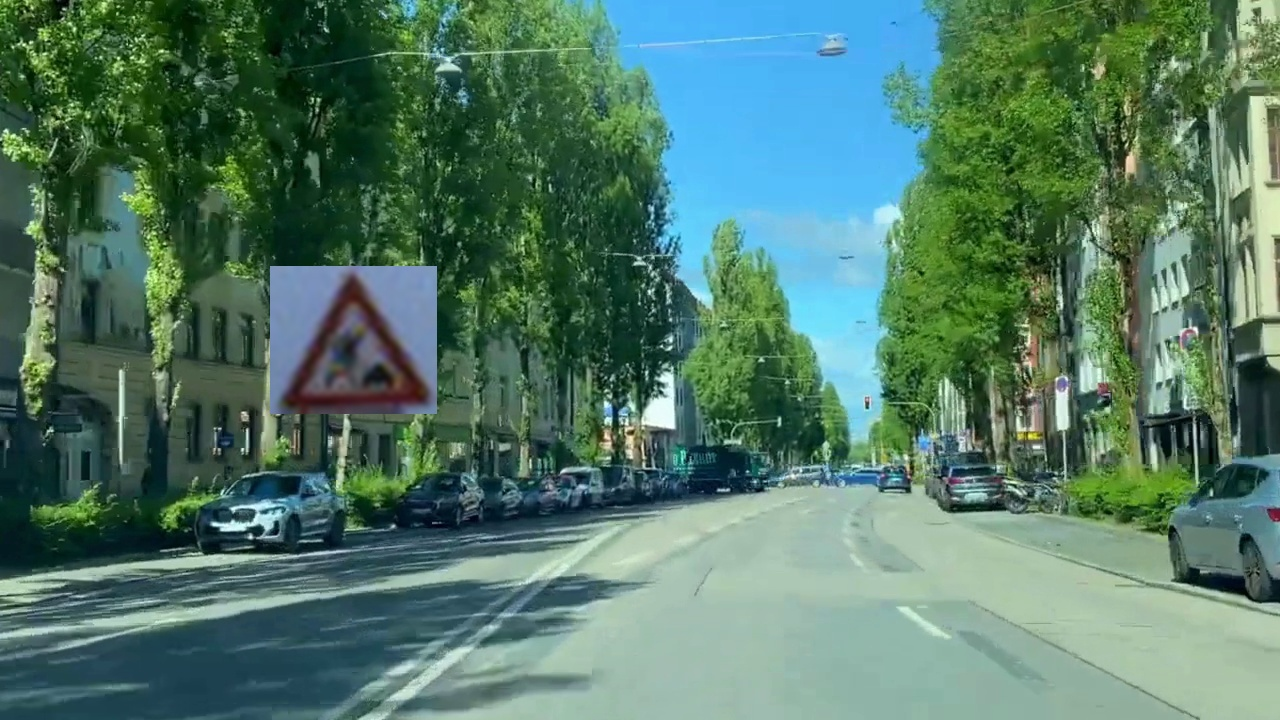Road work: (270, 266, 437, 414)
